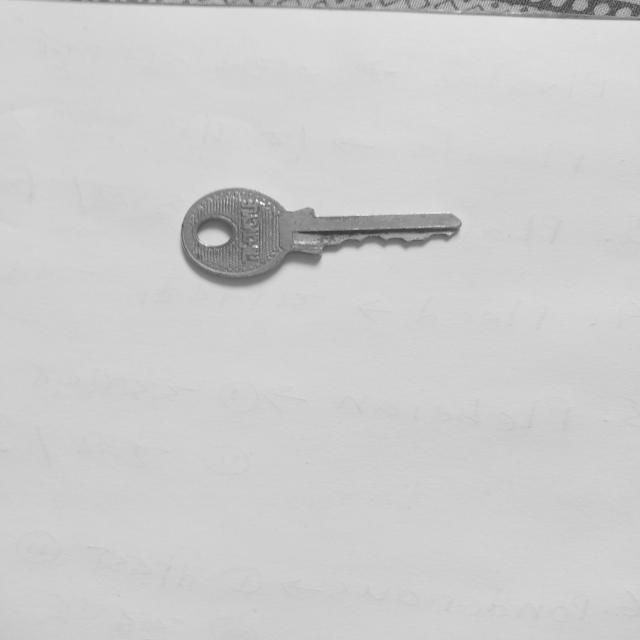KEY: (181, 188, 461, 277)
